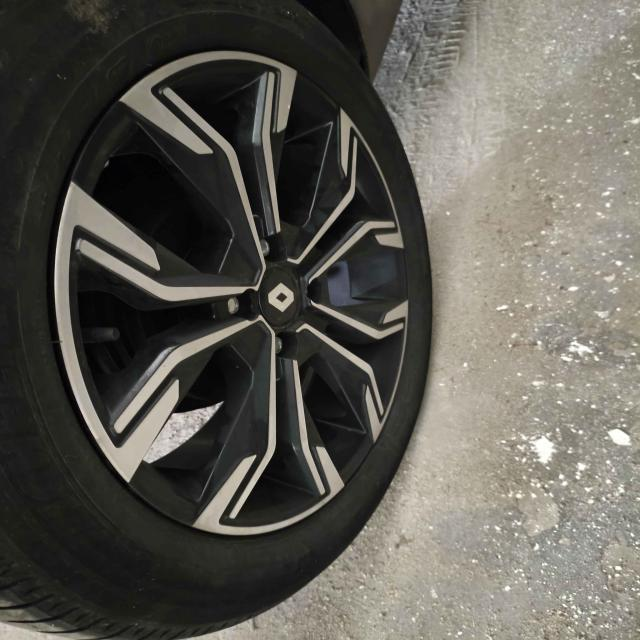jante: (52, 48, 409, 538)
parafuso: (226, 290, 243, 318), (256, 236, 274, 261), (305, 281, 323, 305), (272, 334, 285, 356)
roda: (1, 1, 434, 640)
